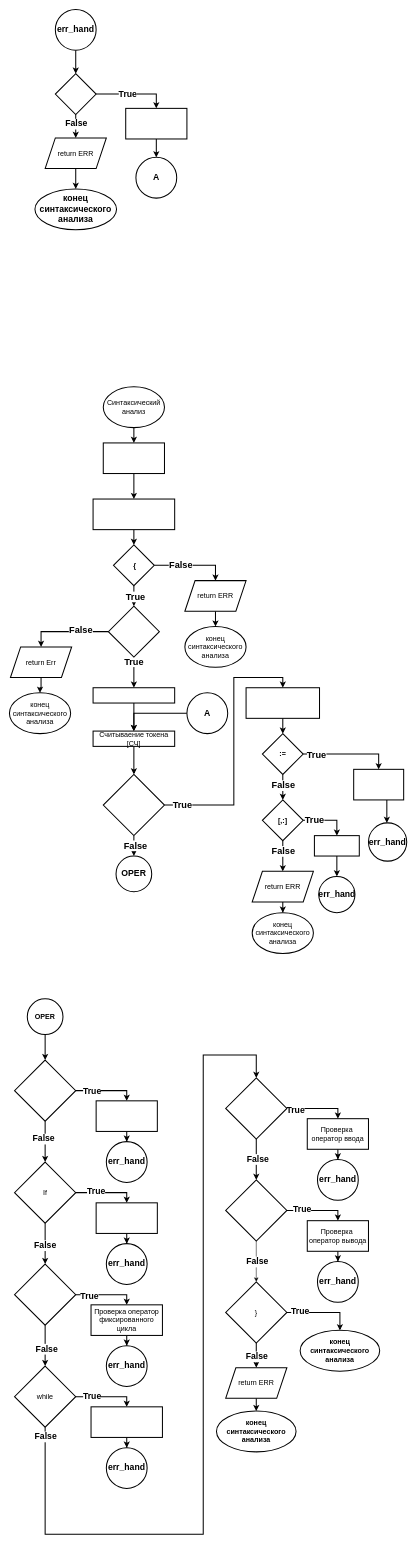
Image size: 416x1547. Some labels were removed from this diagram. The shapes that lost their labels are listed below. From the top down, each one's box as (x1, y1, x2, y2) in pixels, then its label:
(55, 73, 96, 115): ERR!=-1
(125, 108, 187, 139): СЧ=последний проверенный+1
(103, 442, 165, 474): Счётчик=0
(92, 498, 175, 530): Считываение токена [СЧ] Счётчик+=1
(108, 605, 160, 657): Если не конец
(92, 687, 175, 703): Счётчик+=1
(245, 687, 320, 719): Считывание токена[СЧ] Счётчик+=1
(353, 769, 404, 800): Проверка оператор присваивания
(103, 774, 165, 836): Идентификатор?
(314, 835, 360, 856): Проверка описание
(14, 1059, 76, 1121): begin
(225, 1077, 287, 1139): readln
(95, 1100, 158, 1132): Проверка оператор составной
(95, 1202, 158, 1234): Проверка оператор условный
(225, 1179, 287, 1241): writeln
(14, 1263, 76, 1325): for
(90, 1406, 163, 1438): Проверка оператор условного цикла
